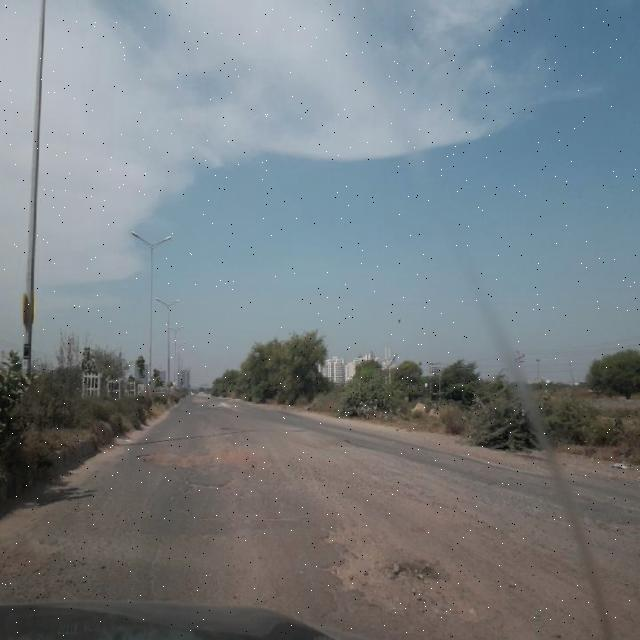D40: (311, 515, 479, 623), (266, 448, 409, 501), (130, 441, 260, 491), (13, 532, 84, 588), (58, 489, 117, 515)
